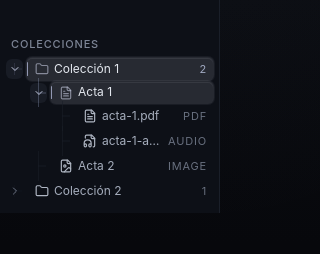
Test: DocumentExplorer › expands collection nodes without navigating and lazy-loads documents
The width and height of the screenshot is (320, 254).
Click the button named "Expandir colección Colección 2" at (14, 191), box x1=6 y1=181 x2=23 y2=201
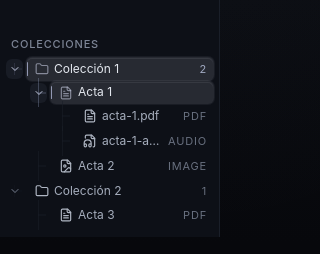
Check: the list item "Acta 3" is shown, box x1=50 y1=203 x2=214 y2=227
